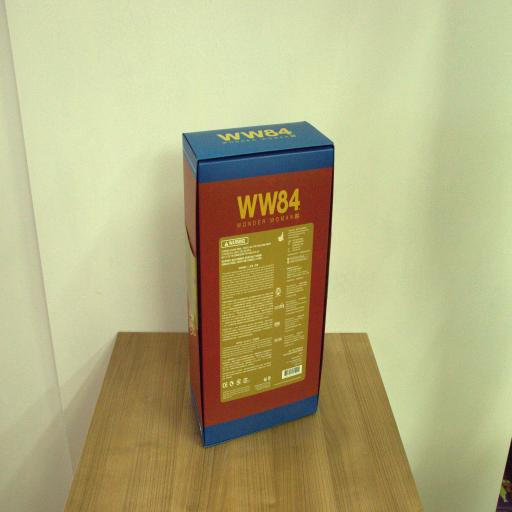WonderWoman: (181, 121, 337, 448)
